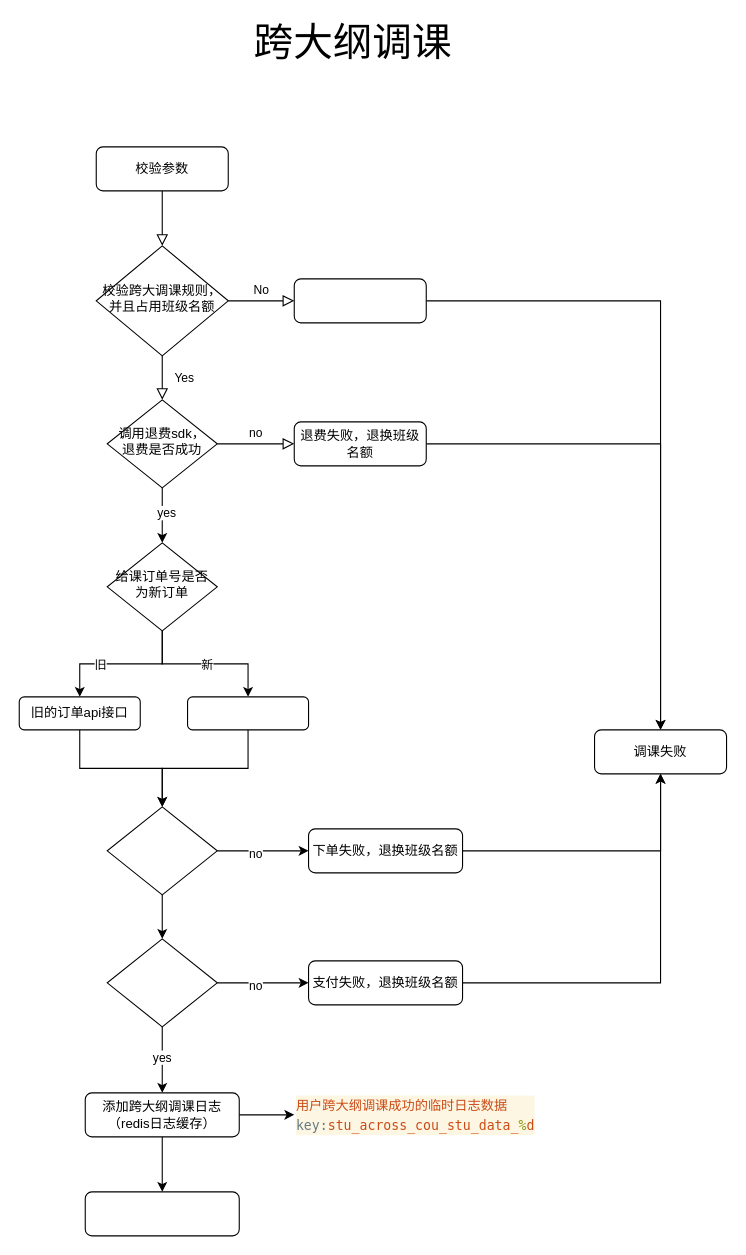
The diagram is 746 pixels wide and 1255 high, and some of its shapes have lost their labels. The centre of each missing label's shape, as x and y in pixels:
下单是否成功: the point at 161,850
新的订单sdk: the point at 247,713
是否支付成功: the point at 161,982
调课成功: the point at 161,1213
验证失败，或者异常: the point at 359,300
